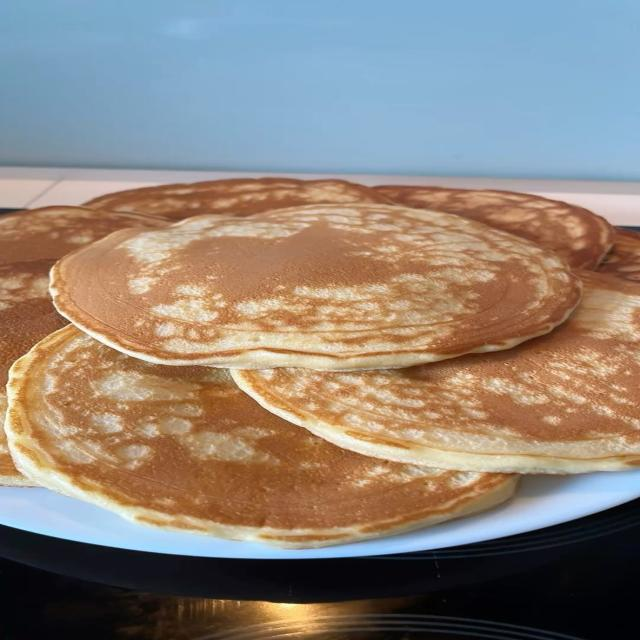pancake: (7, 326, 516, 547), (52, 205, 579, 370), (234, 272, 639, 473), (375, 186, 613, 269), (0, 260, 66, 485), (86, 178, 388, 219), (0, 206, 166, 263), (598, 229, 639, 281)
